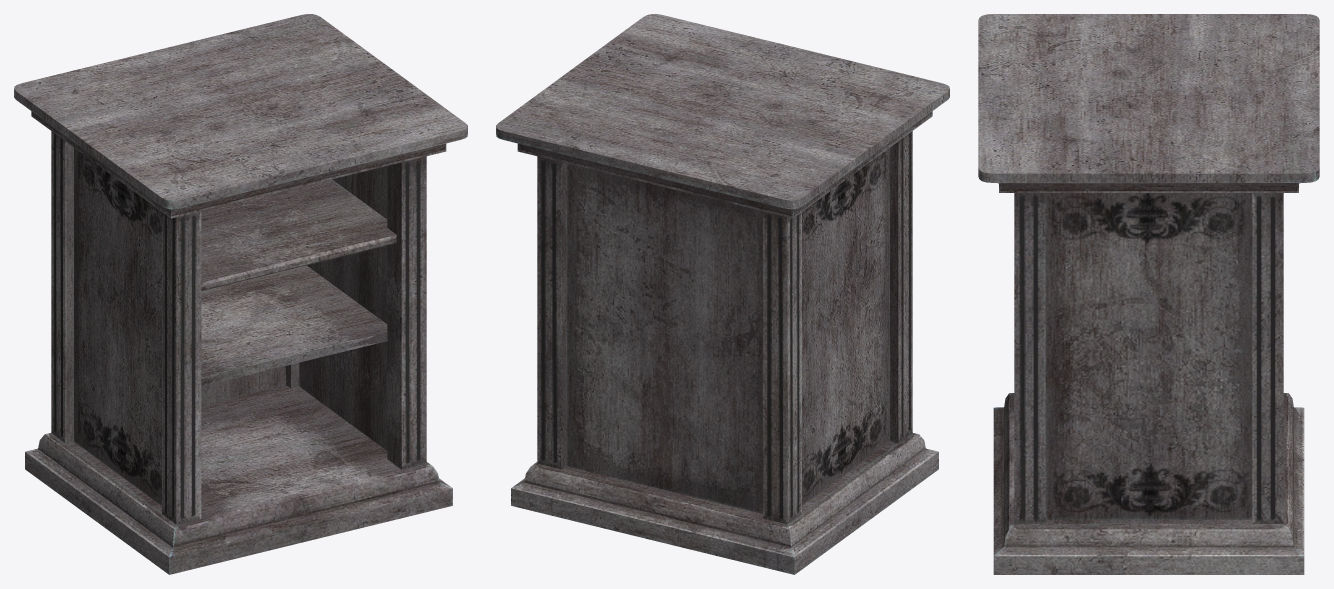
The model's file is NightStand.fbx.
3 views of the same model, side by side, from view 1: azimuth 30°, elevation 25°; view 2: azimuth 150°, elevation 25°; view 3: azimuth 270°, elevation 25° (orthographic). The views are drawn at different scales.
Visible parts, largest first — view 1: Mesh_Nightstand_LOD0; view 2: Mesh_Nightstand_LOD0; view 3: Mesh_Nightstand_LOD0.
Boxes of the visible parts, x1,y1,x2,y2 form: Mesh_Nightstand_LOD0: (14, 14, 467, 574); Mesh_Nightstand_LOD0: (496, 14, 949, 574); Mesh_Nightstand_LOD0: (978, 14, 1319, 574).
Bounding box in the file's own units: 73 × 87 × 66.
